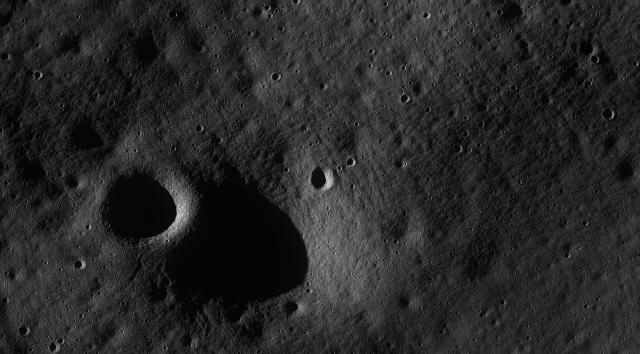crater: (157, 153, 315, 327), (78, 140, 206, 256), (307, 163, 337, 193), (612, 155, 638, 185), (574, 37, 600, 59), (501, 1, 524, 23), (248, 4, 268, 22), (536, 92, 556, 109), (46, 338, 62, 354), (397, 296, 413, 311), (600, 107, 616, 121), (72, 258, 86, 272), (32, 68, 44, 82), (475, 102, 489, 114), (451, 141, 463, 154), (18, 324, 30, 336), (193, 122, 204, 134), (558, 0, 574, 8), (270, 72, 282, 82), (400, 92, 410, 104), (345, 157, 357, 167), (316, 81, 328, 91), (168, 9, 178, 19), (476, 120, 486, 130), (590, 54, 600, 64), (106, 98, 115, 108), (422, 10, 431, 20), (384, 68, 392, 78), (509, 84, 519, 92), (496, 8, 504, 16), (563, 252, 571, 260), (631, 59, 639, 67), (423, 107, 432, 114), (291, 0, 301, 6), (354, 121, 361, 129), (58, 338, 64, 346), (78, 312, 84, 320), (92, 92, 100, 98), (212, 53, 220, 59), (499, 299, 507, 305), (582, 219, 588, 227), (125, 72, 132, 78), (85, 224, 92, 230), (264, 4, 270, 11), (278, 25, 284, 32), (84, 308, 90, 314), (120, 301, 126, 307), (57, 267, 63, 273), (59, 102, 65, 108), (103, 57, 109, 63), (136, 130, 142, 136), (153, 112, 159, 118), (132, 148, 138, 154), (368, 48, 374, 54), (367, 63, 373, 69), (401, 65, 407, 71), (382, 1, 388, 7), (270, 36, 276, 42), (393, 239, 399, 245), (448, 252, 454, 258), (426, 176, 432, 182), (568, 20, 574, 26), (531, 109, 537, 115), (552, 202, 558, 208), (469, 27, 475, 32), (546, 206, 552, 211), (152, 14, 158, 18), (93, 166, 99, 170), (274, 9, 280, 13), (192, 80, 198, 84), (384, 238, 388, 244), (467, 20, 471, 26), (559, 68, 565, 72), (510, 194, 514, 200), (496, 216, 500, 222), (76, 15, 80, 20), (214, 26, 218, 31), (54, 338, 58, 342), (46, 296, 50, 300), (44, 261, 48, 265), (50, 254, 54, 258), (130, 23, 134, 27), (142, 4, 146, 8), (52, 41, 56, 45), (80, 64, 84, 68), (70, 57, 74, 61), (141, 132, 145, 136), (154, 128, 158, 132), (167, 121, 171, 125), (158, 50, 162, 54), (140, 80, 144, 84), (176, 81, 180, 85), (100, 180, 104, 184), (126, 163, 130, 167), (140, 164, 144, 168), (168, 172, 172, 176), (268, 14, 272, 18), (234, 15, 238, 19), (221, 16, 225, 20), (196, 41, 200, 45), (197, 39, 201, 43), (211, 64, 215, 68), (214, 68, 218, 72), (251, 59, 255, 63), (235, 34, 239, 38), (240, 104, 244, 108), (224, 99, 228, 103), (218, 105, 222, 109), (493, 34, 497, 38), (508, 29, 512, 33), (518, 181, 522, 185), (524, 187, 528, 191), (526, 212, 530, 216), (510, 203, 514, 207), (519, 237, 523, 241), (536, 240, 540, 244), (469, 228, 473, 232), (120, 158, 122, 162), (110, 156, 112, 160), (142, 156, 144, 160), (505, 206, 509, 208), (245, 106, 248, 108), (152, 158, 154, 160), (254, 66, 256, 68), (478, 212, 480, 214)
